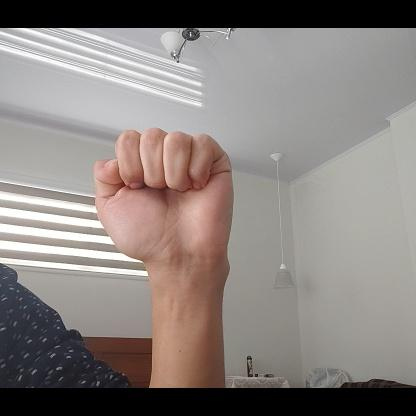A: (93, 127, 236, 264)
